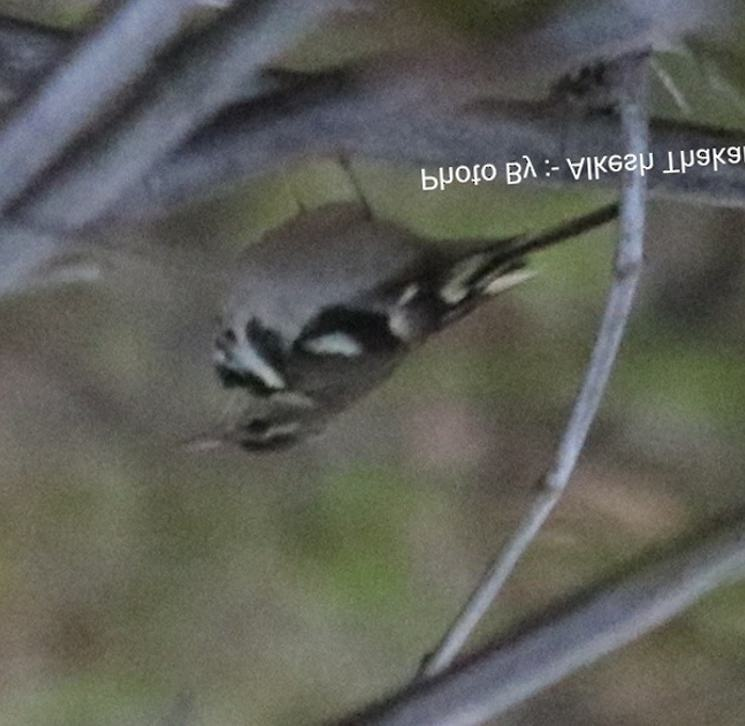wagtail: (177, 163, 619, 468)
